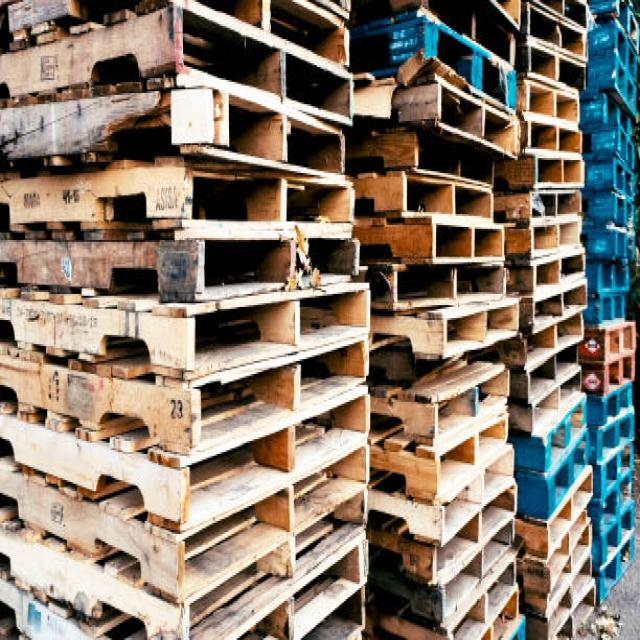Wooden-Pallets: (0, 388, 374, 532), (0, 283, 368, 375), (0, 162, 354, 235), (438, 471, 523, 597), (441, 292, 525, 381), (437, 411, 508, 512), (403, 173, 500, 238), (434, 219, 507, 270)
